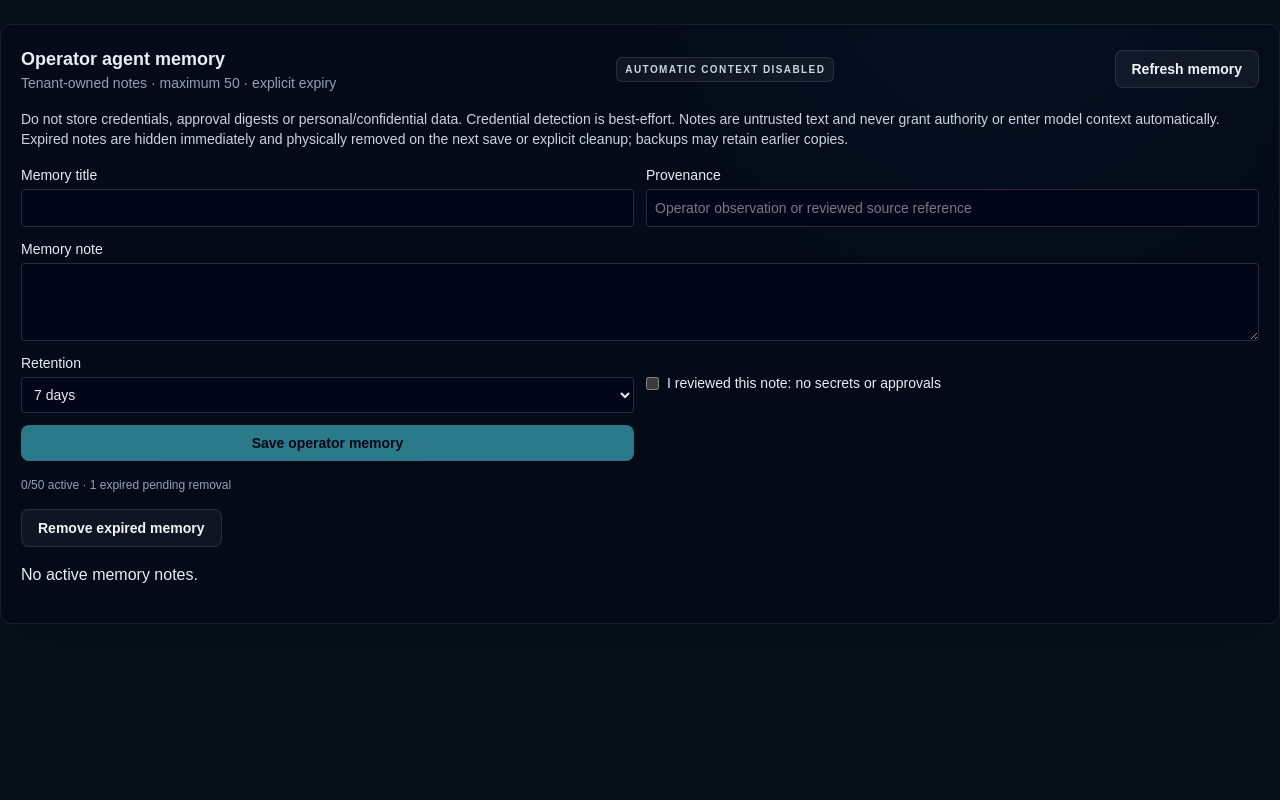
it: AgentMemoryWorkspace › physically purges expired notes without showing their text
Check: the text "0/50 active · 1 expired pending removal" is shown, box x1=21 y1=478 x2=231 y2=492
Click the button "Remove expired memory" at (121, 528), box x1=21 y1=509 x2=222 y2=547
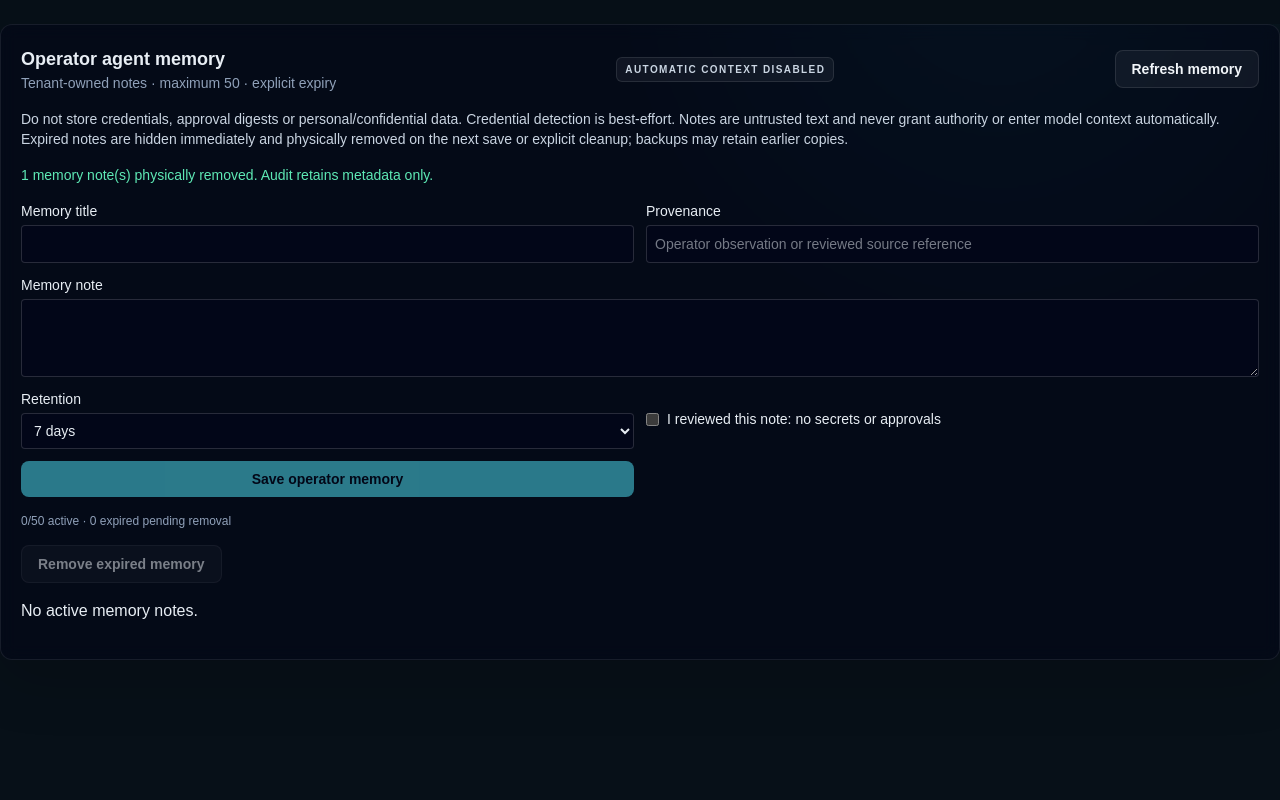
Check: the text "0/50 active · 0 expired pending removal" is shown, box x1=21 y1=514 x2=231 y2=528
